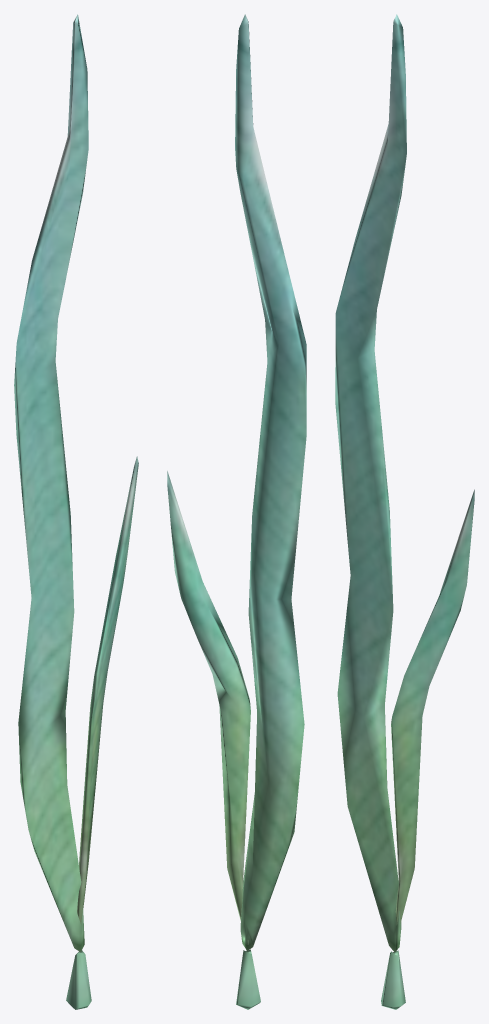
The model's file is bladegrass.glb.
3 renders of one model, left to right at view 1: azimuth 30°, elevation 25°; view 2: azimuth 150°, elevation 25°; view 3: azimuth 330°, elevation 25°, orthographic.
Visible parts, largest first — view 1: bladegrass; view 2: bladegrass; view 3: bladegrass.
Part boxes in pixels (x1=…): bladegrass: x1=14, y1=14, x2=138, y2=1009; bladegrass: x1=167, y1=14, x2=306, y2=1009; bladegrass: x1=335, y1=14, x2=474, y2=1009.
Size of the model in its own units: 0.2045 by 1.48 by 0.058.
Materials: 1 (1 with a texture image).
